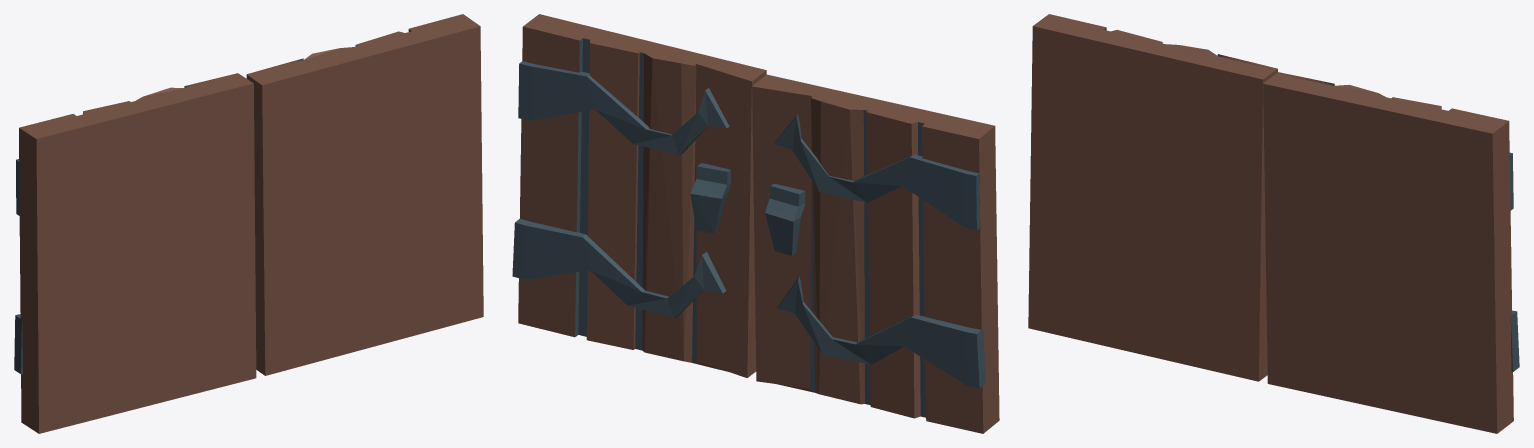
The model's file is CabinetDoors.fbx.
3 views of the same model, side by side, from view 1: azimuth 30°, elevation 25°; view 2: azimuth 150°, elevation 25°; view 3: azimuth 330°, elevation 25° (orthographic). The views are drawn at different scales.
Parts seen in each view (by area): view 1: Keg wall.009, Keg wall.018; view 2: Keg wall.009, Keg wall.018; view 3: Keg wall.018, Keg wall.009.
Boxes of the visible parts, bbox=[...] form: Keg wall.009: bbox=[14, 73, 256, 433]; Keg wall.018: bbox=[246, 14, 483, 375]; Keg wall.009: bbox=[752, 74, 999, 433]; Keg wall.018: bbox=[512, 14, 766, 377]; Keg wall.018: bbox=[1263, 72, 1519, 433]; Keg wall.009: bbox=[1028, 14, 1277, 381].
Size of the model in its own units: 156 by 97.31 by 18.09.
